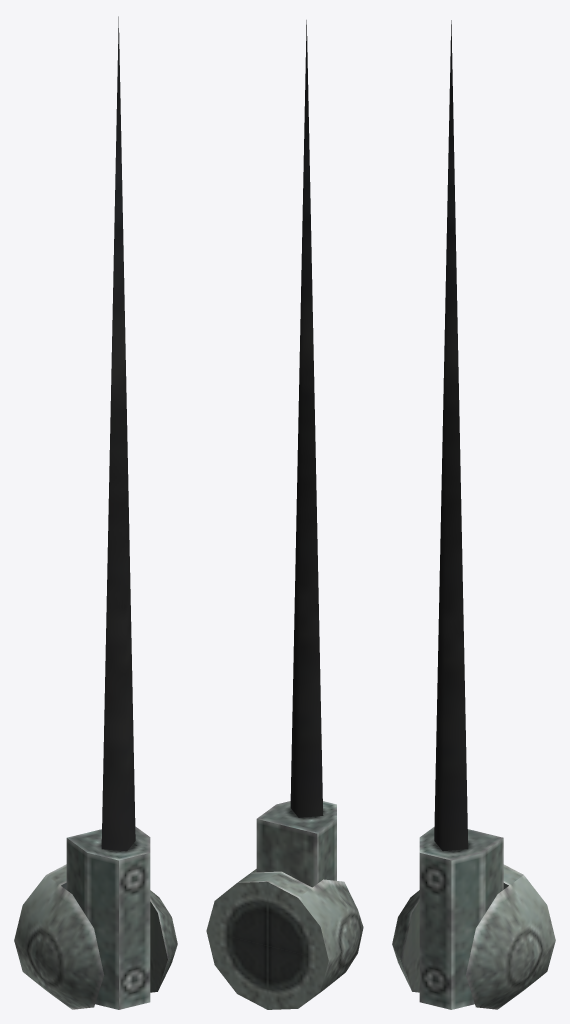
File: Antenna_lg.FBX
The picture shows the model from 3 angles, left to right: view 1: azimuth 30°, elevation 25°; view 2: azimuth 150°, elevation 25°; view 3: azimuth 330°, elevation 25°; orthographic projection. The views are drawn at different scales.
Visible parts, largest first — view 1: Antenna_lg; view 2: Antenna_lg; view 3: Antenna_lg.
Boxes of the visible parts, x1,y1,x2,y2 form: Antenna_lg: (14, 16, 177, 1009); Antenna_lg: (206, 20, 363, 1009); Antenna_lg: (392, 20, 555, 1009).
Bounding box in the file's own units: 50.98 × 385 × 40.28.
